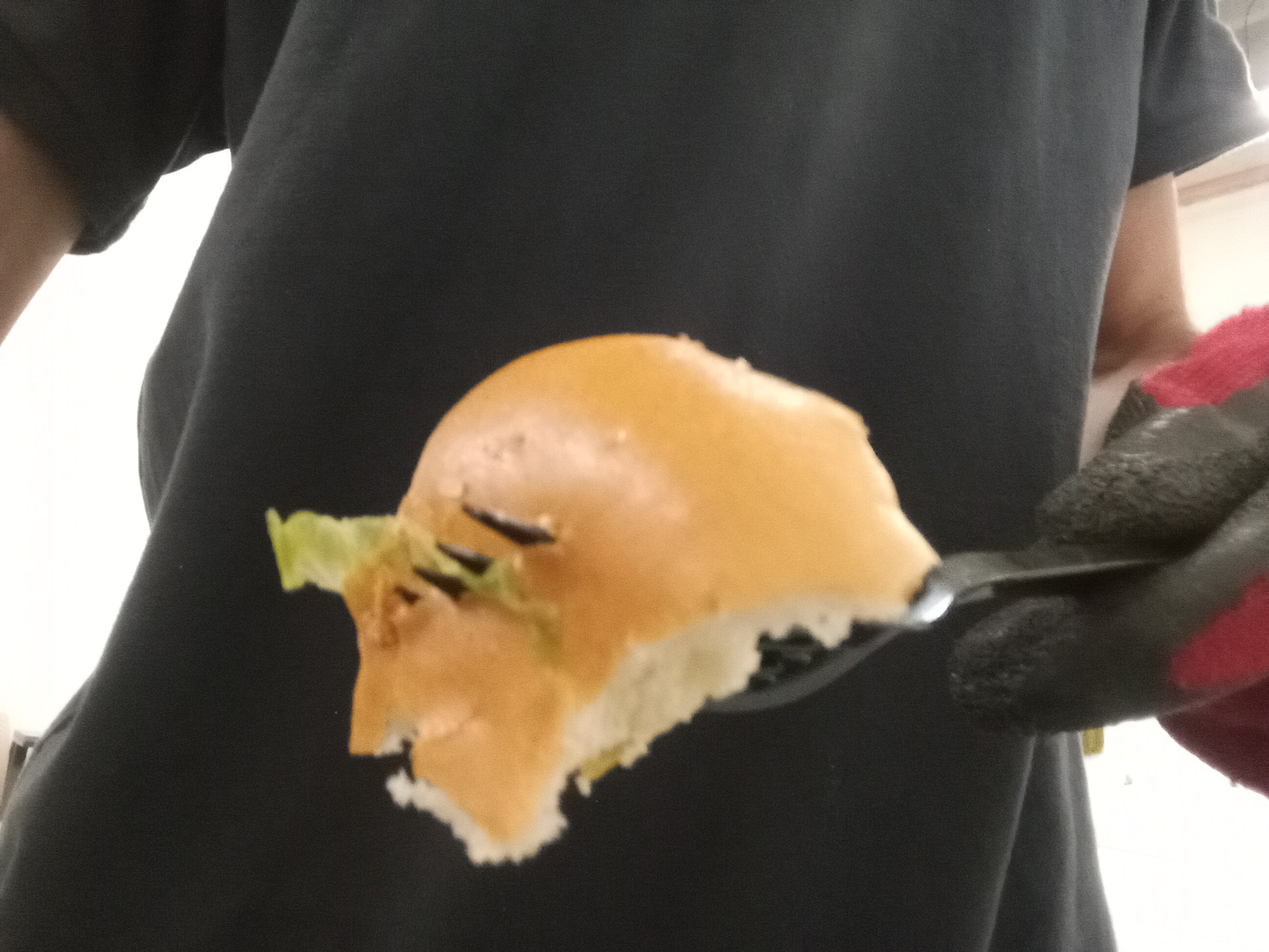Organico: (265, 333, 944, 870)
